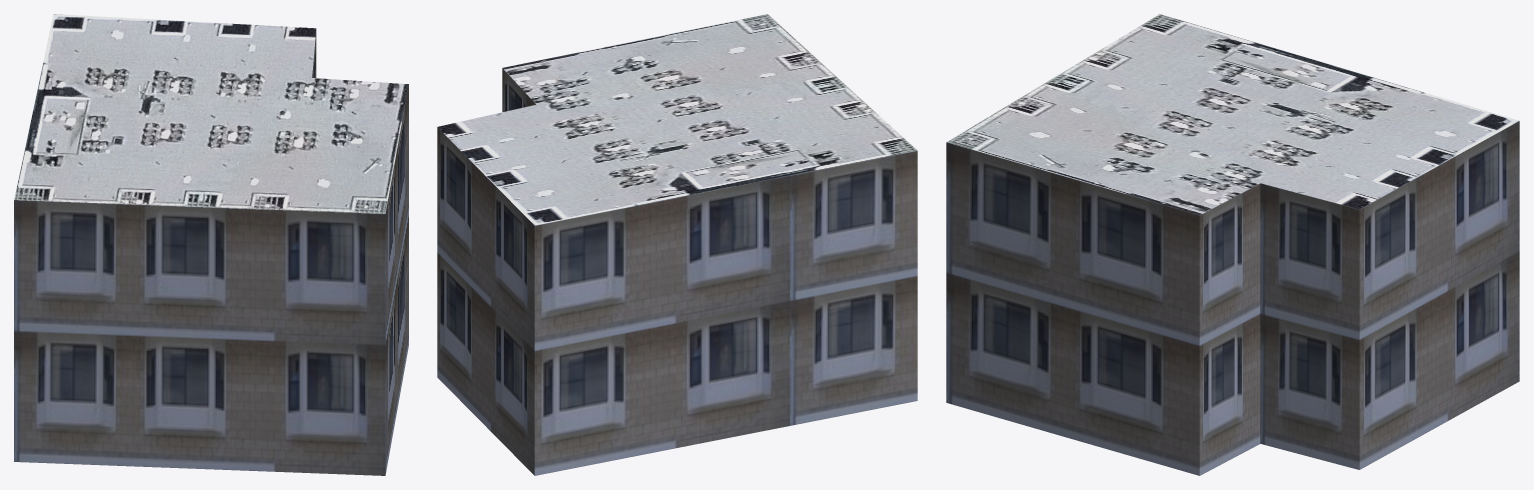
File: ResTex__4252.fbx
3 renders of one model, left to right at view 1: azimuth 30°, elevation 25°; view 2: azimuth 150°, elevation 25°; view 3: azimuth 270°, elevation 25°, orthographic. The views are drawn at different scales.
Visible parts, largest first — view 1: CityEngineMaterial_3_m, CityEngineMaterial_4_m; view 2: CityEngineMaterial_3_m, CityEngineMaterial_4_m; view 3: CityEngineMaterial_3_m, CityEngineMaterial_4_m.
Part boxes in pixels (box(x1,y1,x2,y2)): CityEngineMaterial_3_m: box(14, 31, 408, 475); CityEngineMaterial_4_m: box(14, 14, 408, 213); CityEngineMaterial_3_m: box(437, 68, 917, 475); CityEngineMaterial_4_m: box(437, 14, 917, 225); CityEngineMaterial_3_m: box(946, 121, 1519, 475); CityEngineMaterial_4_m: box(947, 14, 1518, 215).
Bounding box in the file's own units: 9.94 × 6 × 11.96.
2 materials, 2 textured.
